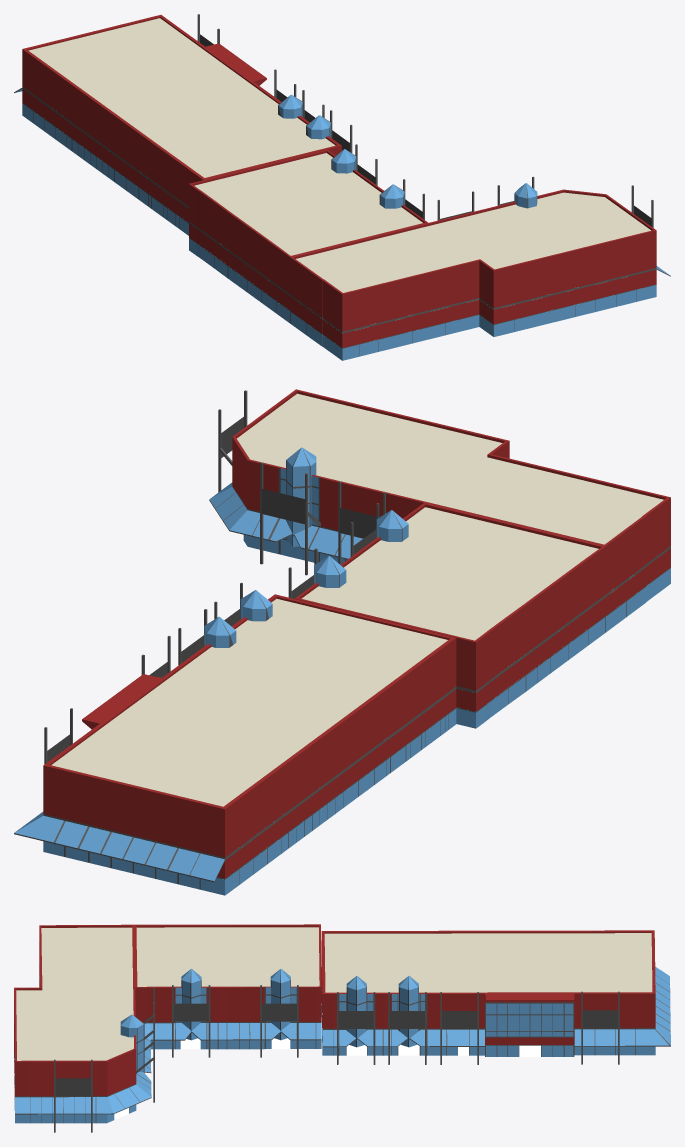
The model's file is sanders_WBv6.glb.
3 renders of one model, top to bottom at view 1: azimuth 30°, elevation 25°; view 2: azimuth 150°, elevation 25°; view 3: azimuth 270°, elevation 25°, orthographic. The views are drawn at different scales.
Parts seen in each view (by area): view 1: 279815744; view 2: 279815744; view 3: 279815744.
Boxes of the visible parts, x1,y1,x2,y2 form: 279815744: (14,14,670,360); 279815744: (14,389,670,895); 279815744: (14,924,670,1132).
Bounding box in the file's own units: 263 × 66.73 × 502.
